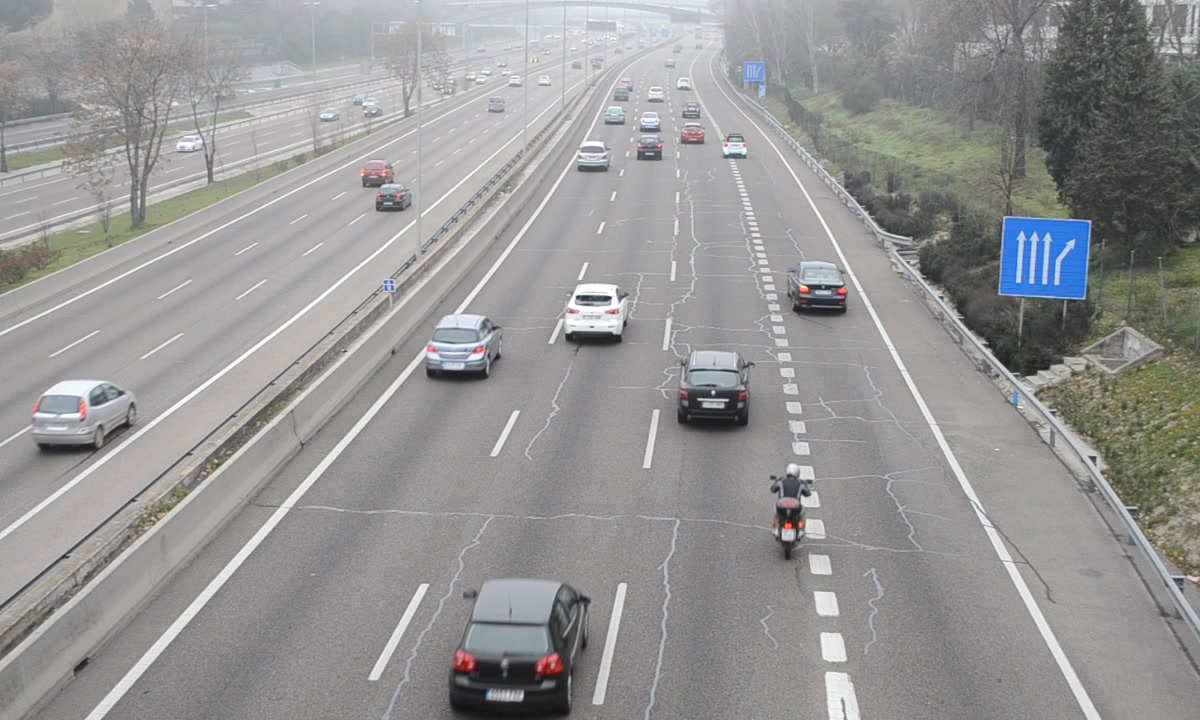car: (448, 577, 588, 717), (678, 350, 750, 429), (425, 313, 501, 376), (564, 282, 628, 337), (790, 261, 848, 311), (575, 139, 611, 172), (721, 132, 747, 159), (636, 134, 662, 161), (680, 120, 707, 145)
motorcycle: (769, 464, 815, 564)
